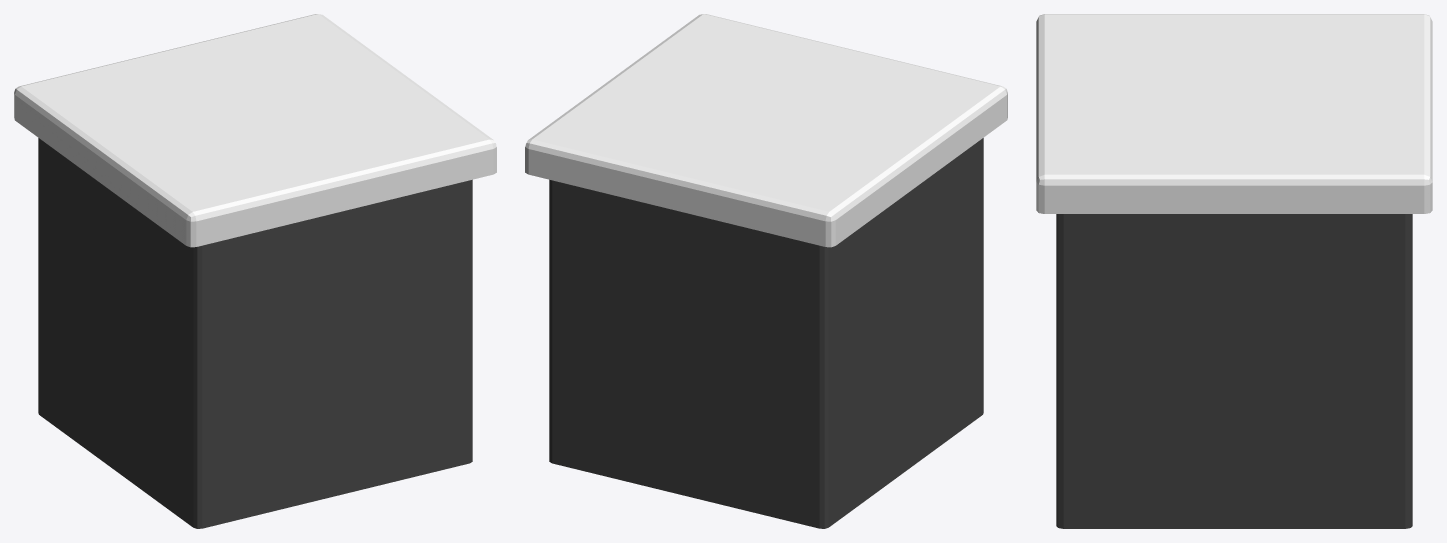
The model's file is Workbench.fbx.
The picture shows the model from 3 angles, left to right: view 1: azimuth 30°, elevation 25°; view 2: azimuth 150°, elevation 25°; view 3: azimuth 270°, elevation 25°; orthographic projection. The views are drawn at different scales.
Visible parts, largest first — view 1: Workbench; view 2: Workbench; view 3: Workbench.
Boxes of the visible parts, x1,y1,x2,y2 form: Workbench: (14, 14, 496, 528); Workbench: (525, 14, 1007, 528); Workbench: (1036, 14, 1432, 528).
Bounding box in the file's own units: 100 × 100 × 100.
